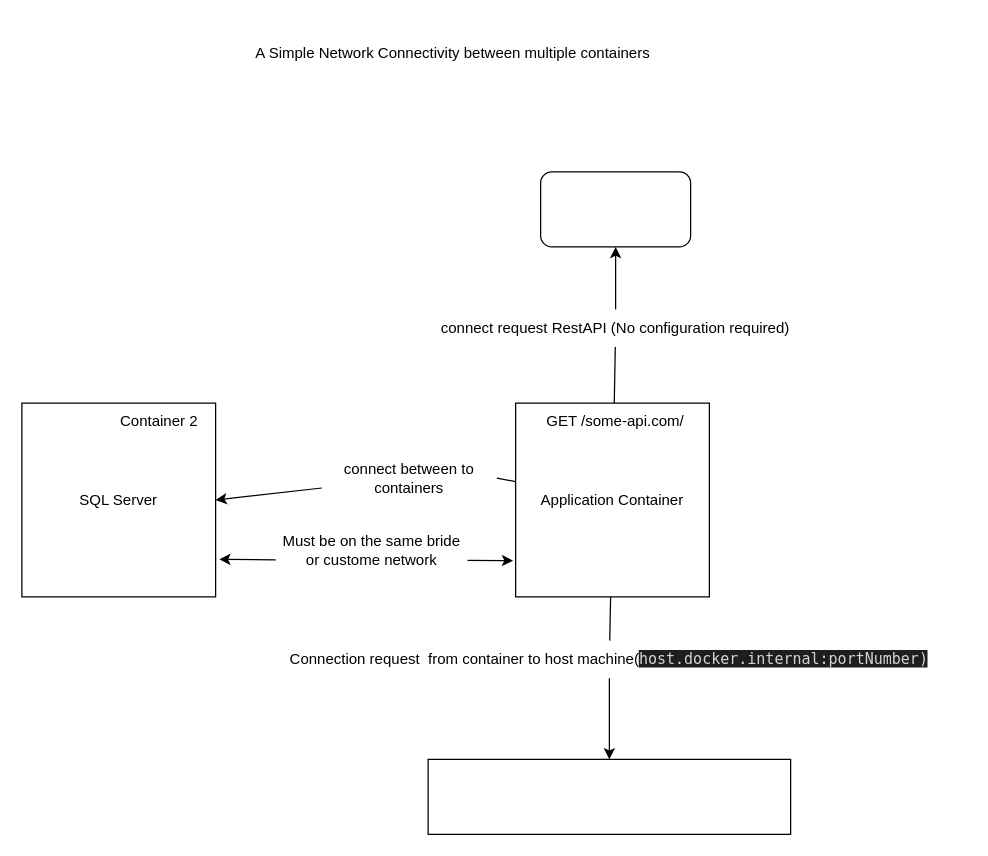
This 988x856 diagram has some shape labels left out. Each missing label, with the centre of its shape:
"Resources on Localhost" belongs at (x=609, y=796).
"Some API.com" belongs at (x=615, y=209).
